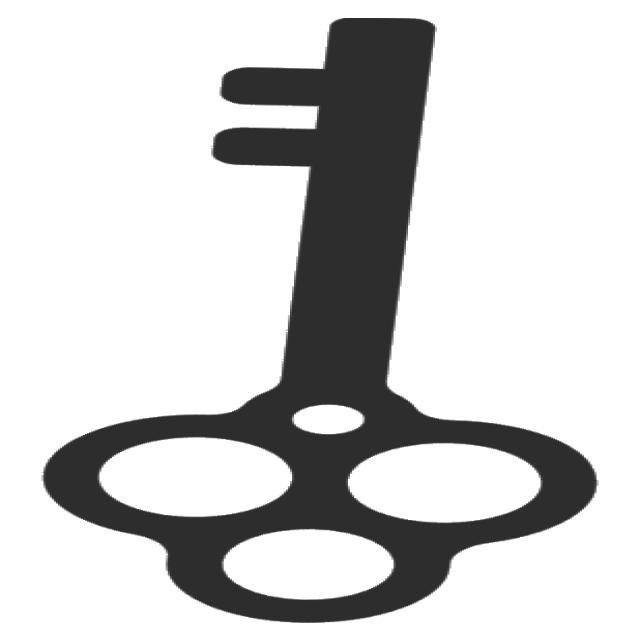key: (26, 15, 612, 637)
